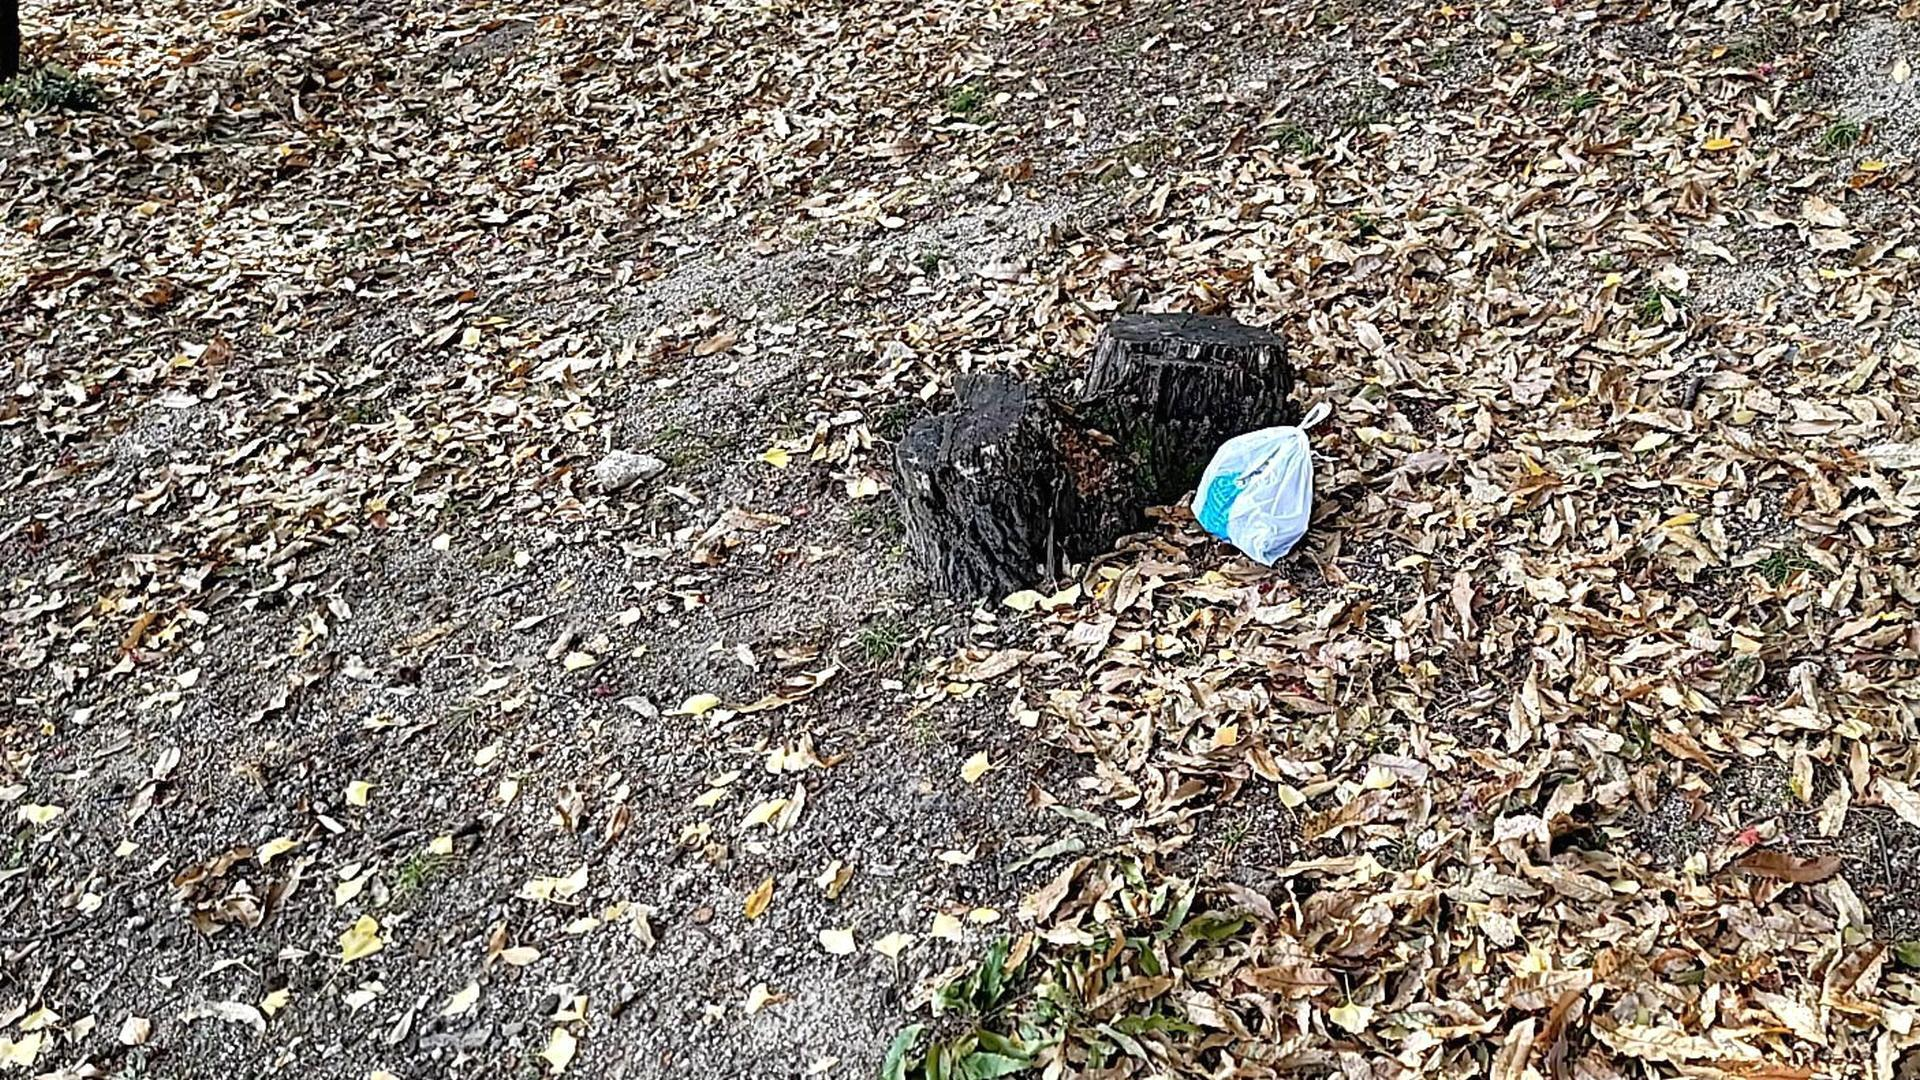white_bag: (1175, 381, 1348, 575)
